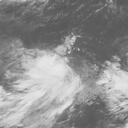cyclone: (26, 48, 83, 102)
